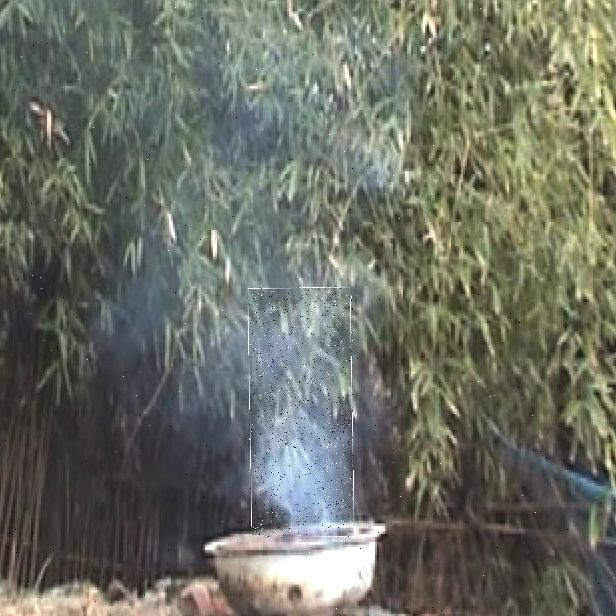smoke: (249, 288, 353, 537)
